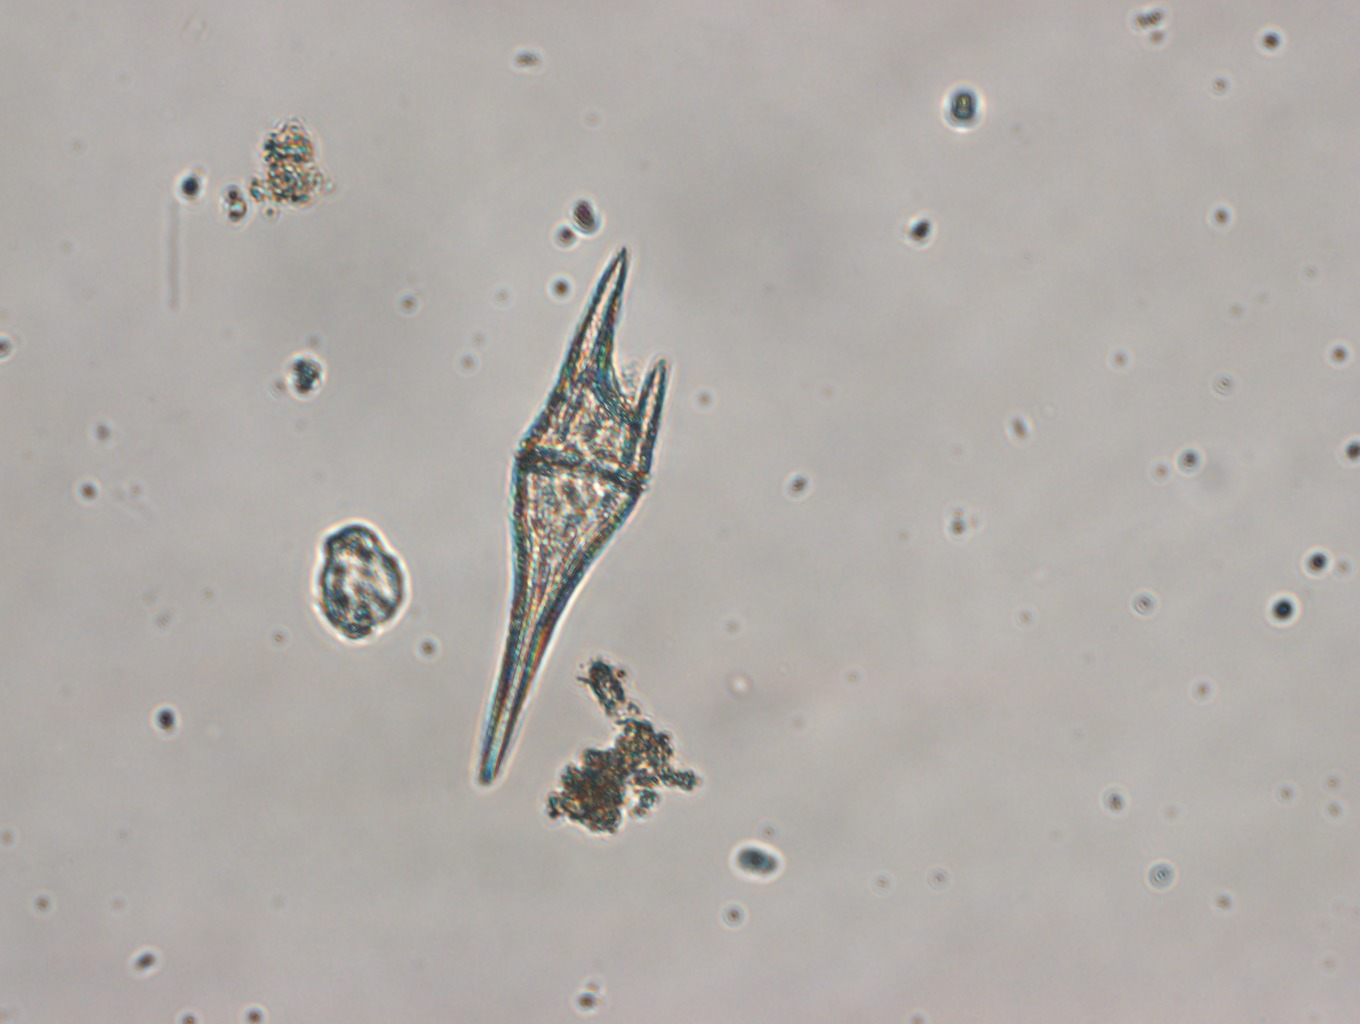ceratium furca: (474, 247, 671, 787)
